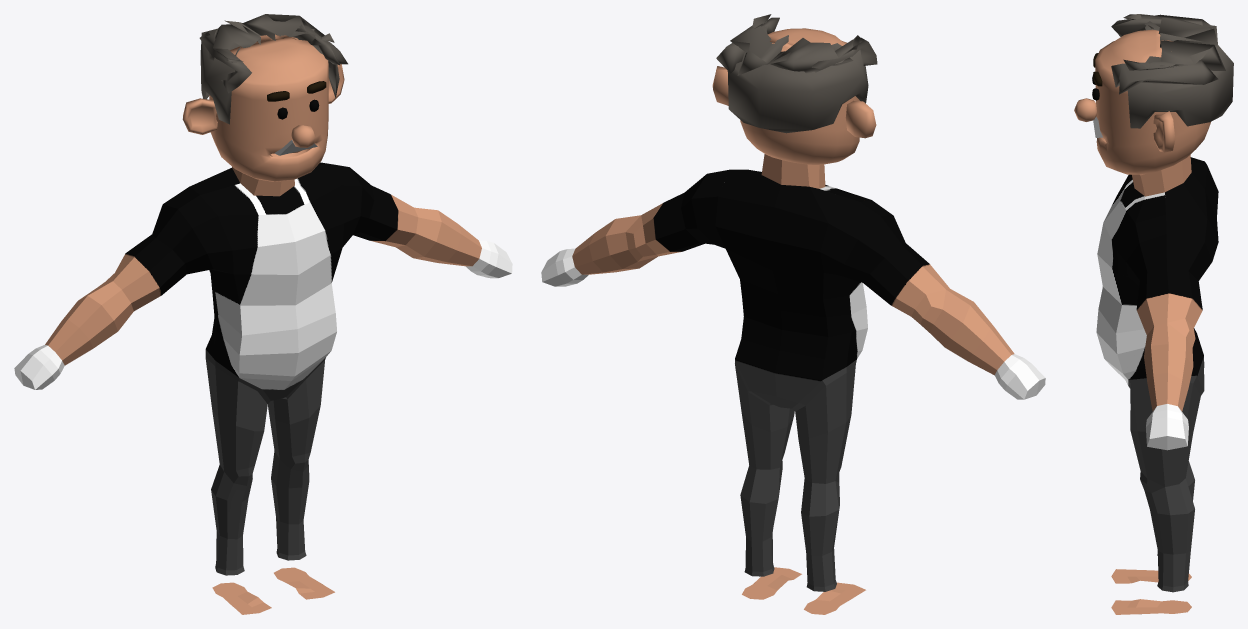
The model's file is Vendedor de panchos.fbx.
3 renders of one model, left to right at view 1: azimuth 30°, elevation 25°; view 2: azimuth 150°, elevation 25°; view 3: azimuth 270°, elevation 25°, orthographic.
Parts seen in each view (by area): view 1: lowpoly_man5.001, Head.001, Hair_Base, Hair_Base.001; view 2: lowpoly_man5.001, Hair_Base, Head.001, Hair_Base.001; view 3: lowpoly_man5.001, Hair_Base, Head.001, Hair_Base.001.
Part boxes in pixels (x1,y1,x2,y2): lowpoly_man5.001: (14, 162, 512, 614); Head.001: (182, 34, 344, 181); Hair_Base: (200, 14, 347, 124); Hair_Base.001: (199, 14, 346, 122); lowpoly_man5.001: (541, 154, 1045, 614); Hair_Base: (716, 14, 877, 133); Head.001: (712, 28, 876, 164); Hair_Base.001: (728, 15, 873, 127); lowpoly_man5.001: (1096, 155, 1218, 614); Hair_Base: (1111, 14, 1233, 128); Head.001: (1074, 29, 1210, 174); Hair_Base.001: (1111, 14, 1233, 125).
Size of the model in its own units: 223 by 243 by 63.07.
